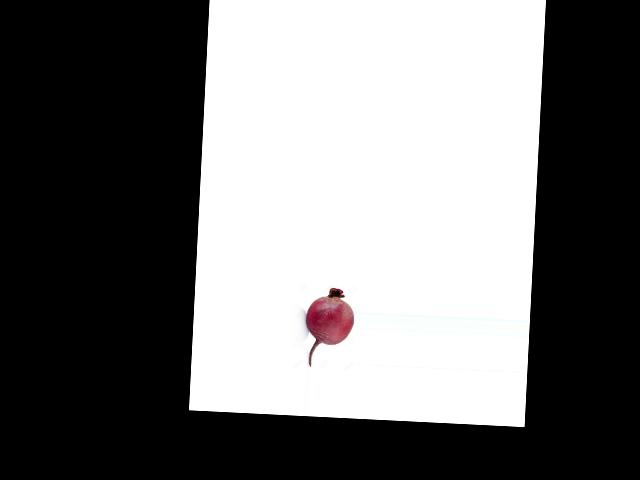beet: (303, 287, 354, 368)
